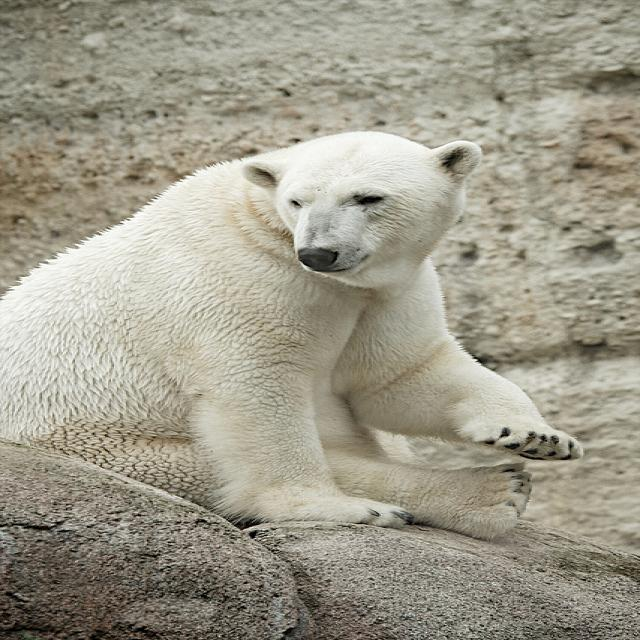Bear: (4, 125, 588, 540)
